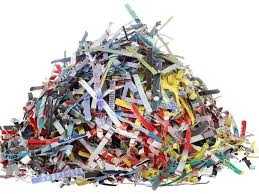paper: (162, 79, 194, 122), (31, 163, 87, 187), (47, 127, 100, 149), (173, 126, 196, 176), (128, 102, 161, 136), (128, 73, 154, 113), (91, 65, 110, 112), (104, 76, 121, 112), (234, 118, 250, 152), (133, 53, 157, 75), (78, 94, 96, 123)
